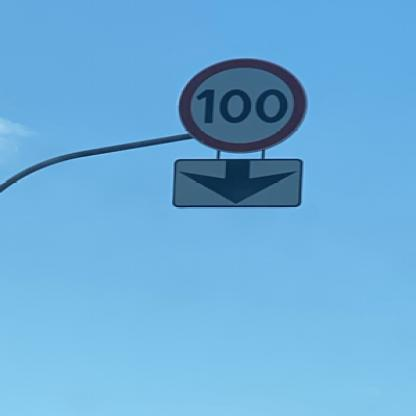speedlimit: (176, 56, 307, 153)
